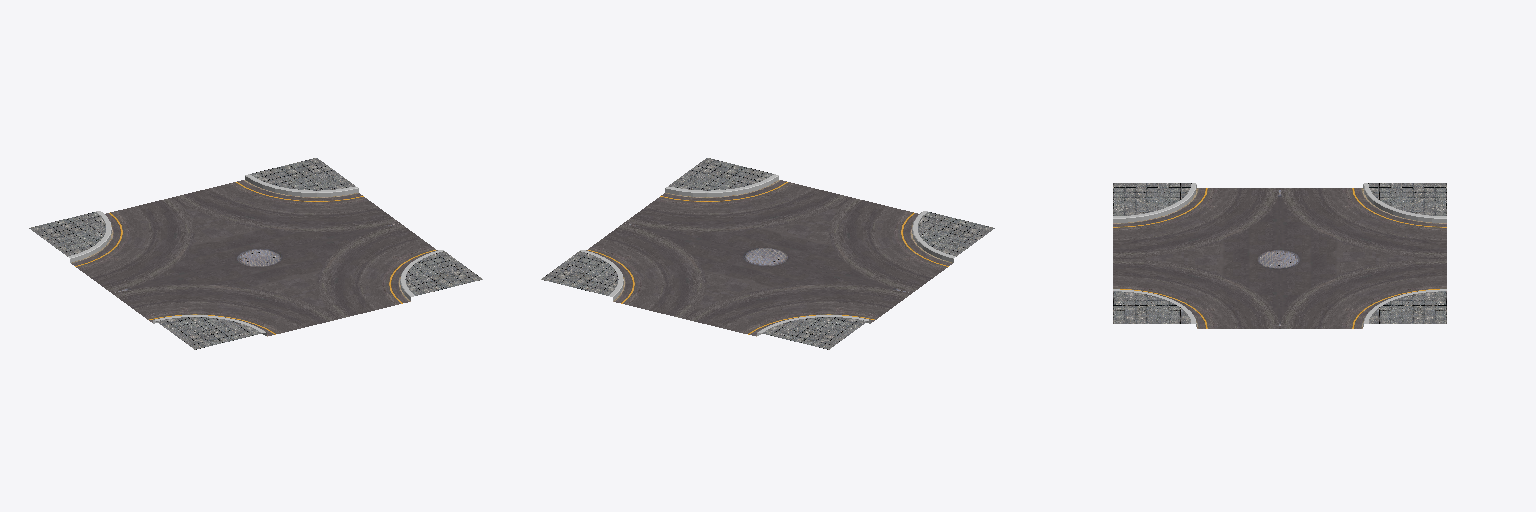
3 renders of one model, left to right at view 1: azimuth 30°, elevation 25°; view 2: azimuth 150°, elevation 25°; view 3: azimuth 270°, elevation 25°, orthographic.
Visible parts, largest first — view 1: Plane.005_Plane.018; view 2: Plane.005_Plane.018; view 3: Plane.005_Plane.018.
Boxes of the visible parts, <box> form: Plane.005_Plane.018: <box>29,158,482,349</box>; Plane.005_Plane.018: <box>541,158,994,349</box>; Plane.005_Plane.018: <box>1113,183,1446,328</box>.
Size of the model in its own units: 24 by 0.3524 by 24.
Materials: 6 (3 with a texture image).